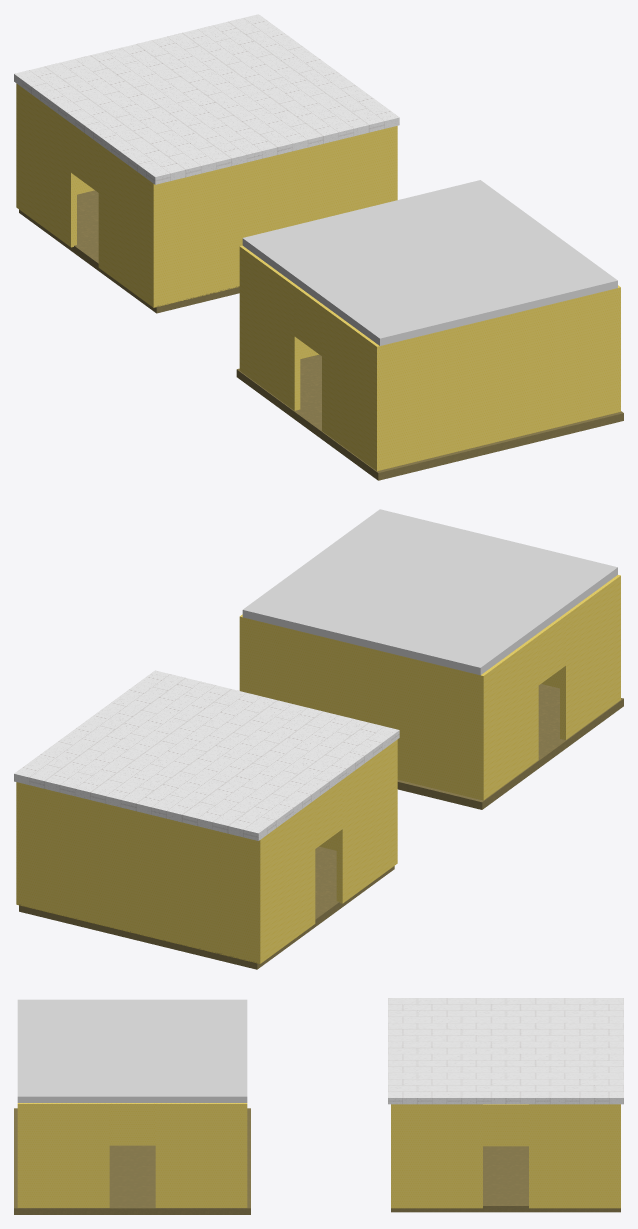
File: SILENT_Room_07_Structure.fbx
3 renders of one model, top to bottom at view 1: azimuth 30°, elevation 25°; view 2: azimuth 150°, elevation 25°; view 3: azimuth 270°, elevation 25°, orthographic. The views are drawn at different scales.
Visible parts, largest first — view 1: Room_07_A_Structure, Room_07_B_Structure, Ceiling.013, Ceiling.006; view 2: Room_07_B_Structure, Room_07_A_Structure, Ceiling.013, Ceiling.006; view 3: Room_07_A_Structure, Ceiling.013, Room_07_B_Structure, Ceiling.006.
Part boxes in pixels (<box>): Room_07_A_Structure: <box>236,245,623,480</box>; Room_07_B_Structure: <box>16,83,397,313</box>; Ceiling.013: <box>14,14,399,184</box>; Ceiling.006: <box>242,180,617,345</box>; Room_07_B_Structure: <box>16,739,397,969</box>; Room_07_A_Structure: <box>239,575,623,809</box>; Ceiling.013: <box>14,670,399,840</box>; Ceiling.006: <box>242,509,617,675</box>; Room_07_A_Structure: <box>14,1103,250,1214</box>; Ceiling.013: <box>388,998,623,1104</box>; Room_07_B_Structure: <box>391,1104,620,1212</box>; Ceiling.006: <box>17,999,247,1102</box>.
Bounding box in the file's own units: 8.25 × 4.49 × 21.24.
Materials: 4 (3 with a texture image).
